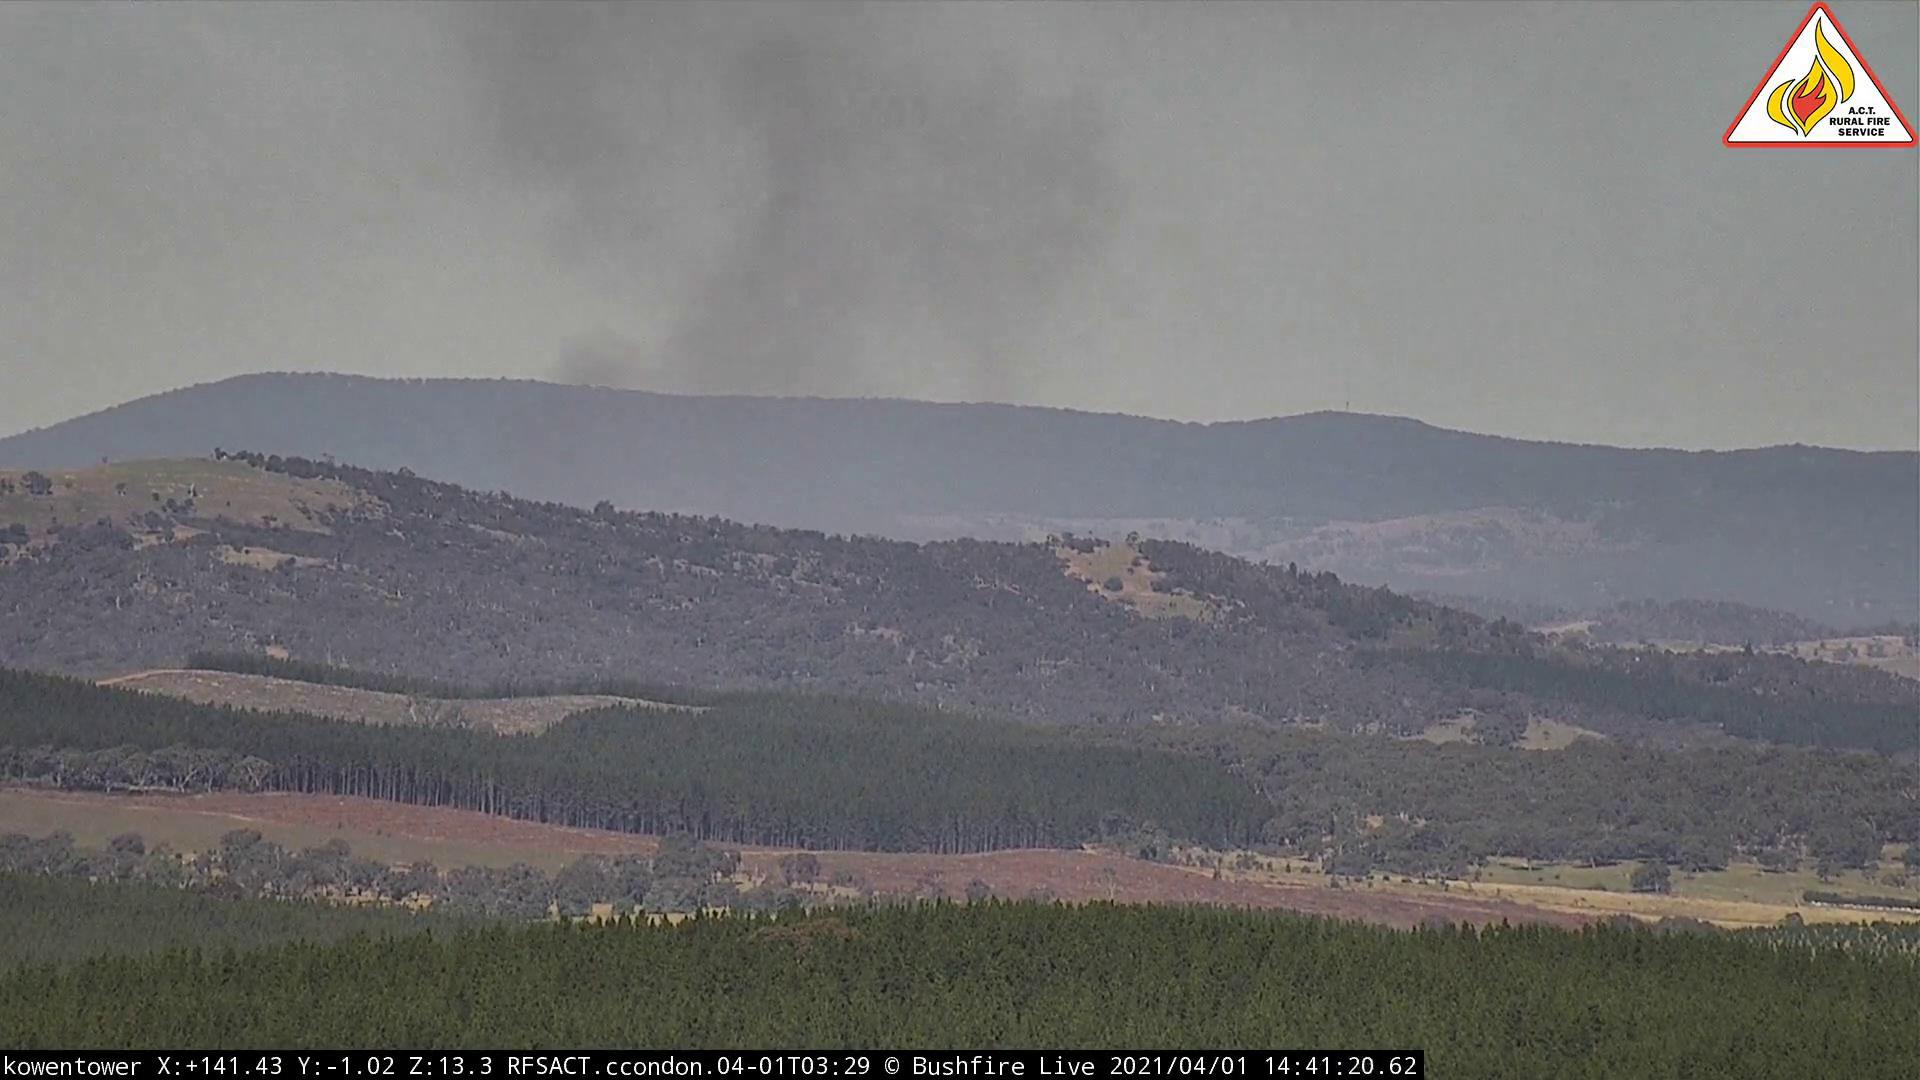instance_salient_object: (421, 3, 1135, 520)
